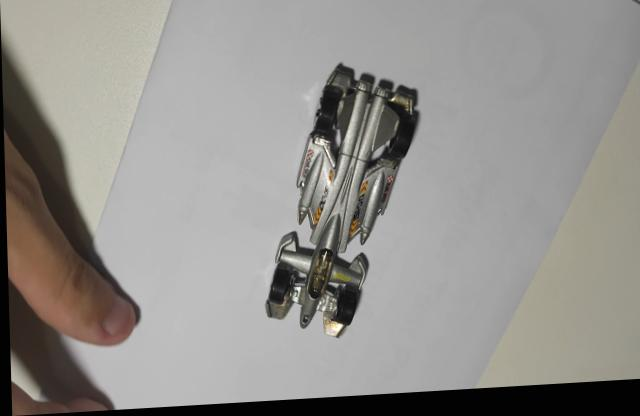05_DC121: (263, 67, 420, 343)
